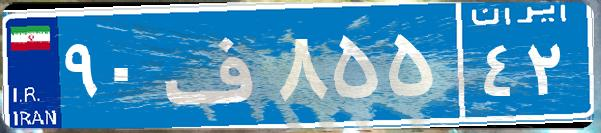0: (110, 28, 158, 105)
2: (525, 38, 570, 115)
4: (475, 38, 525, 113)
5: (385, 28, 445, 110), (330, 28, 385, 110)
8: (273, 28, 330, 110)
9: (57, 26, 110, 107)
ف: (158, 15, 273, 115)
